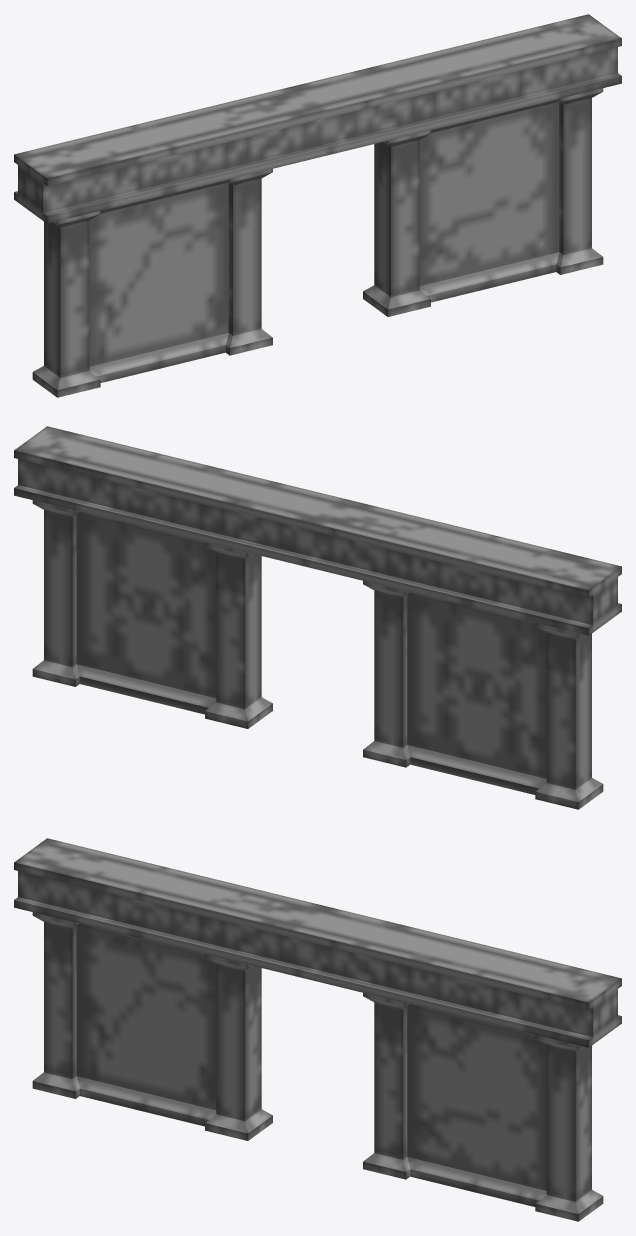
Rendered from Ruines_Entry_noVines.fbx.
3 renders of one model, top to bottom at view 1: azimuth 30°, elevation 25°; view 2: azimuth 150°, elevation 25°; view 3: azimuth 330°, elevation 25°, orthographic.
Visible parts, largest first — view 1: polySurface70, polySurface68, polySurface71, polySurface72, polySurface69; view 2: polySurface70, polySurface68, polySurface71, polySurface72, polySurface69; view 3: polySurface70, polySurface71, polySurface68, polySurface69, polySurface72.
Boxes of the visible parts, <box> form: polySurface70: <box>14,14,621,223</box>; polySurface68: <box>363,99,559,316</box>; polySurface71: <box>32,180,228,397</box>; polySurface72: <box>225,169,272,355</box>; polySurface69: <box>556,88,603,274</box>; polySurface70: <box>14,426,621,635</box>; polySurface68: <box>76,511,272,728</box>; polySurface71: <box>407,592,603,809</box>; polySurface72: <box>363,581,410,767</box>; polySurface69: <box>32,500,79,686</box>; polySurface70: <box>14,838,621,1047</box>; polySurface71: <box>32,912,216,1126</box>; polySurface68: <box>363,993,546,1206</box>; polySurface69: <box>535,1035,603,1221</box>; polySurface72: <box>205,954,272,1140</box>.
Size of the model in its own units: 20 by 7.5 by 2.
1 material, 1 textured.
